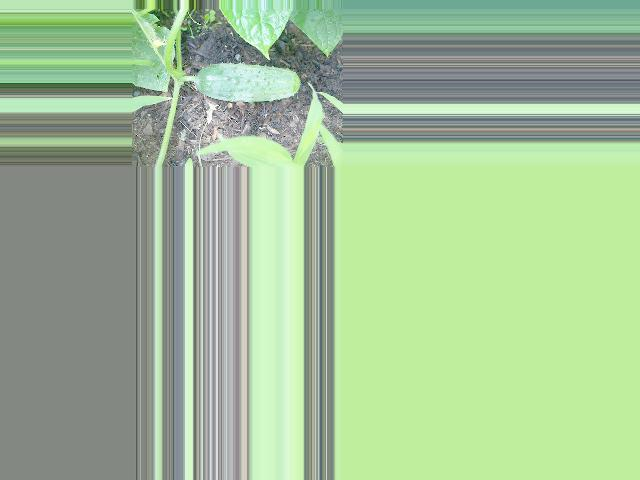cucumber: (195, 63, 301, 102)
